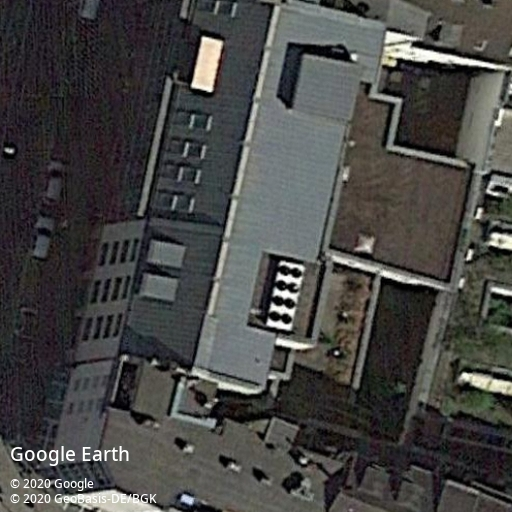Chiller: (264, 259, 306, 332)
